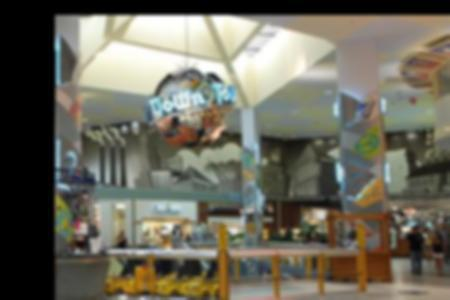Otro Obstaculo: (326, 215, 388, 280)
